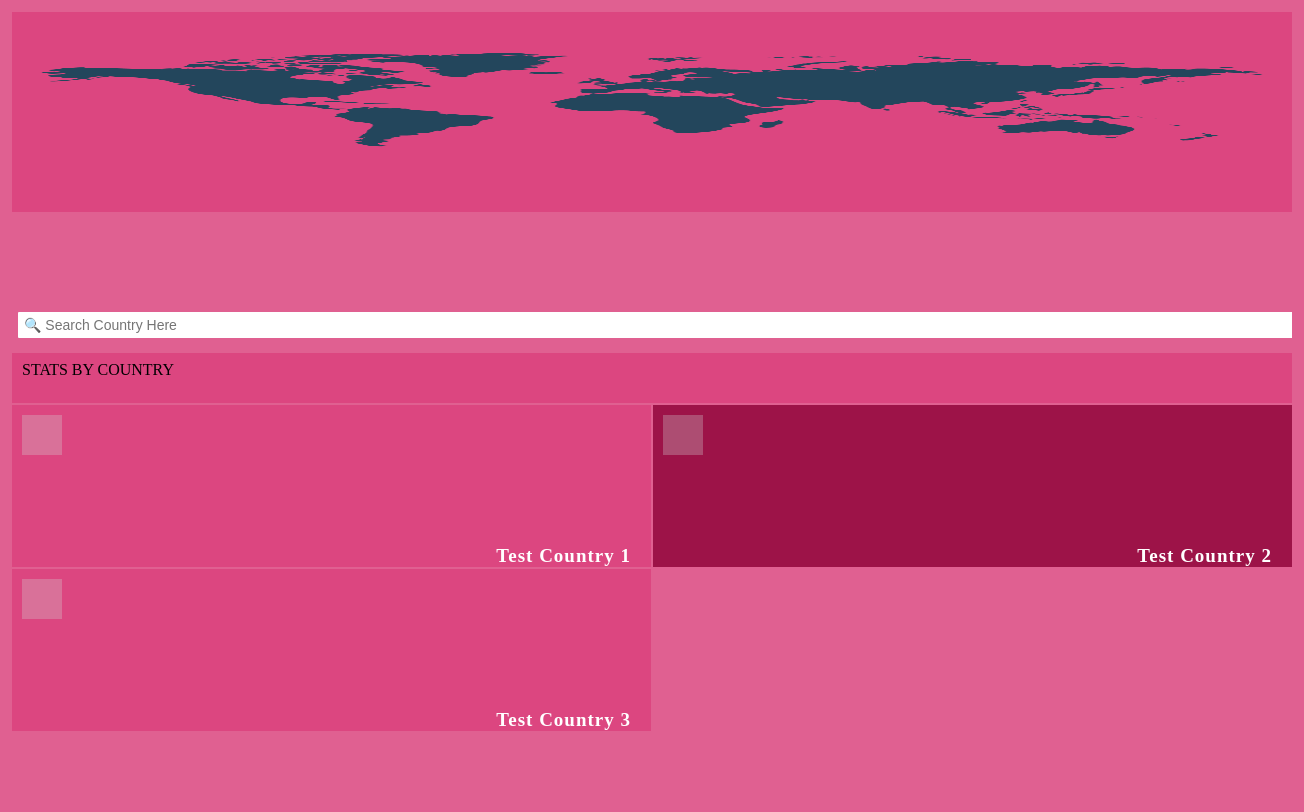
<Home /> › Should filters countries based on search
Type "test country 2" into the field with placeholder "🔍 Search Country Here" at (655, 325), box [18,312,1292,338]
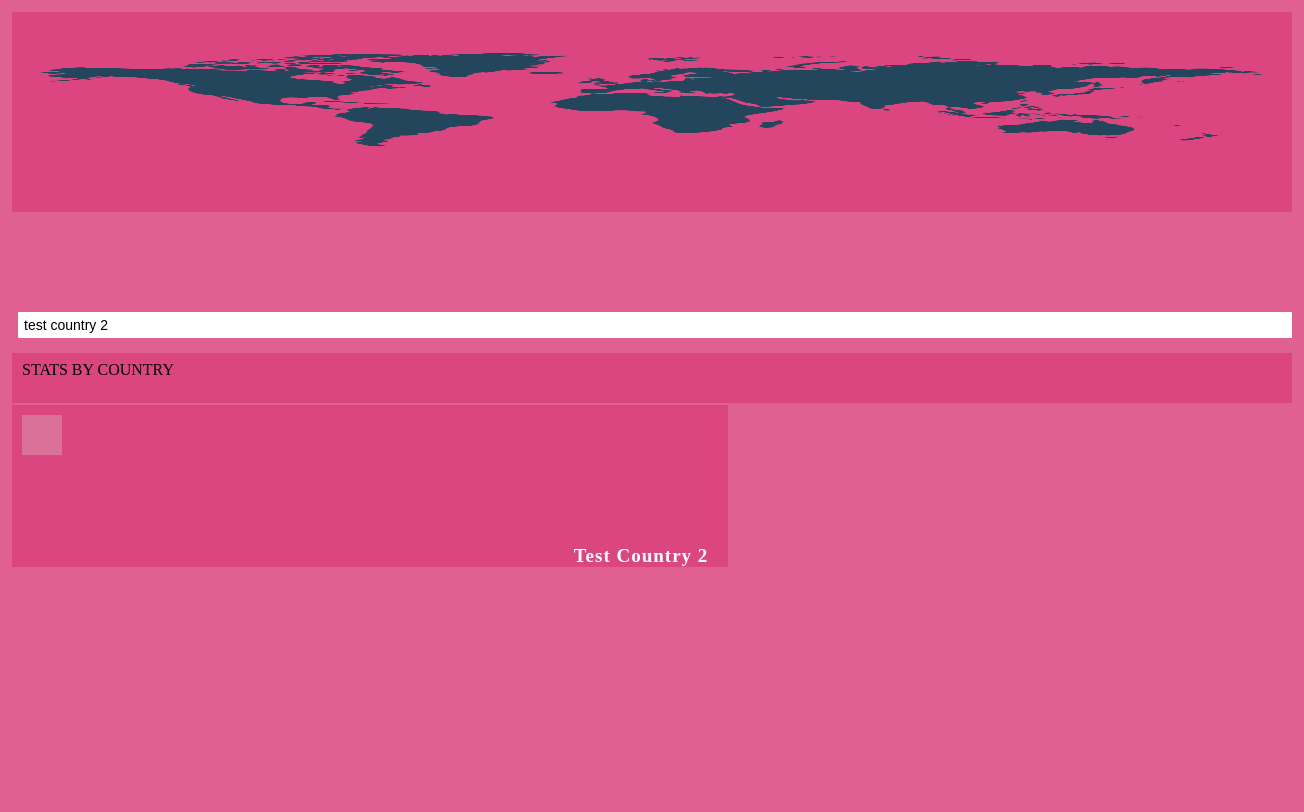
Expected: the number of links "Test Country 2" is 1, [12,405,728,567]
